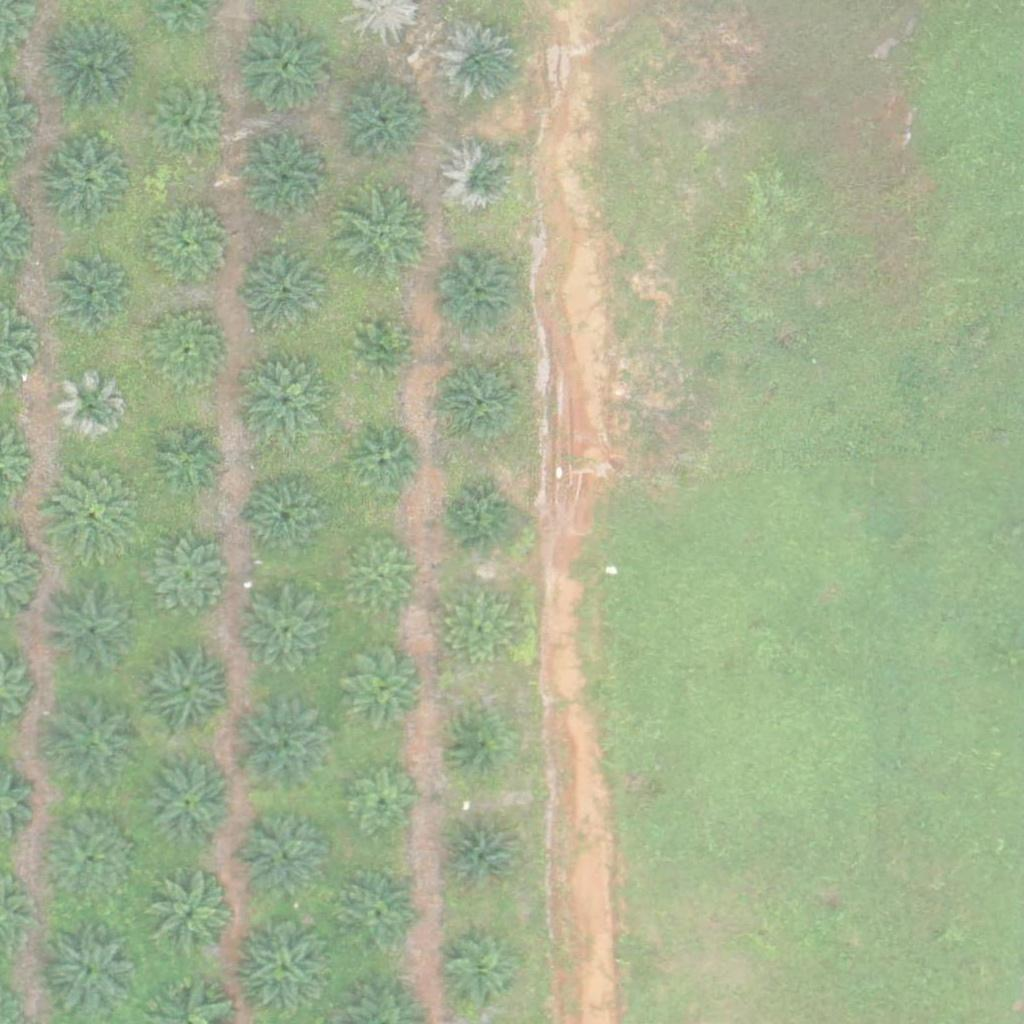Kelapa_Sawit: (47, 463, 147, 564), (230, 697, 330, 798), (135, 528, 235, 629), (135, 638, 235, 739), (41, 578, 141, 679), (237, 18, 337, 118), (336, 72, 436, 172), (336, 186, 436, 286), (233, 917, 333, 1017), (44, 694, 144, 794), (39, 921, 139, 1021), (143, 308, 231, 397), (245, 475, 333, 564), (144, 415, 232, 503), (435, 933, 523, 1021), (47, 27, 135, 115), (44, 140, 132, 228), (146, 206, 234, 294), (432, 20, 520, 108), (434, 250, 522, 338), (435, 361, 523, 449), (338, 870, 426, 958), (240, 589, 328, 677), (239, 814, 327, 902), (336, 642, 423, 730), (439, 814, 526, 902), (242, 135, 329, 223), (241, 251, 328, 339), (242, 361, 329, 449), (144, 762, 231, 850), (147, 873, 234, 961), (47, 822, 134, 910), (444, 141, 519, 217), (149, 90, 224, 165), (349, 426, 424, 501), (347, 768, 422, 843), (439, 589, 514, 664), (446, 481, 521, 556), (53, 258, 128, 333), (55, 372, 130, 447), (341, 537, 416, 612), (444, 712, 507, 775), (351, 321, 414, 384)
